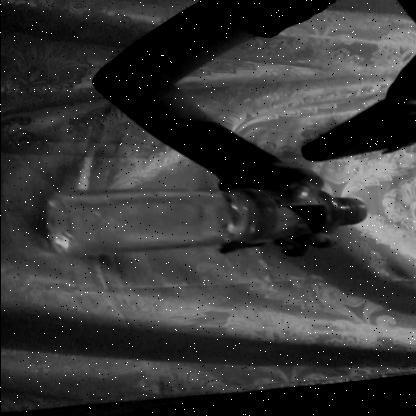Plastic Bottle: (39, 169, 377, 281)
